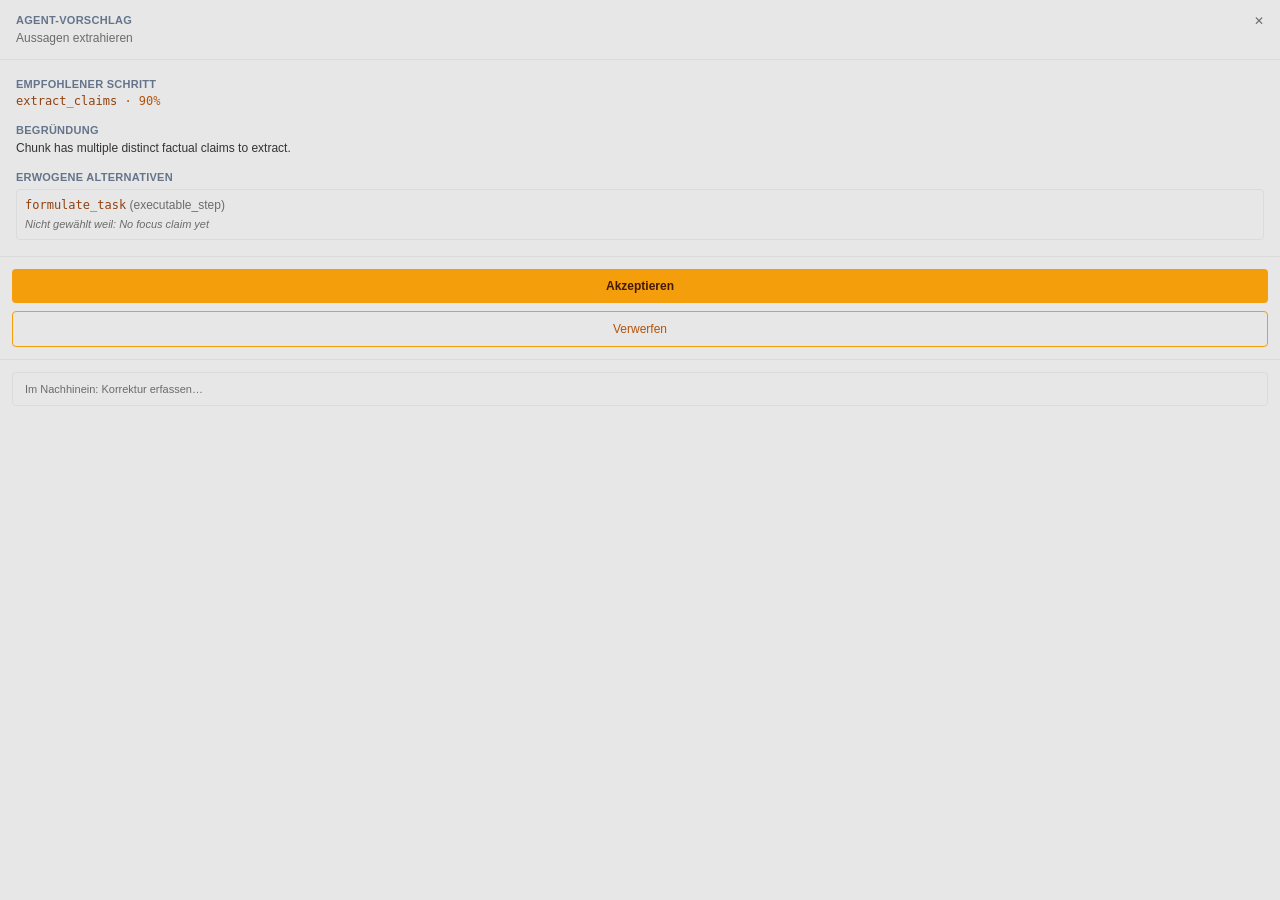
PlanProposalPanel — Verwerfen morph › combobox accepts free-text for unimplemented step names
The image size is (1280, 900).
Click the button "Verwerfen" at (640, 328), box [12,310,1268,346]
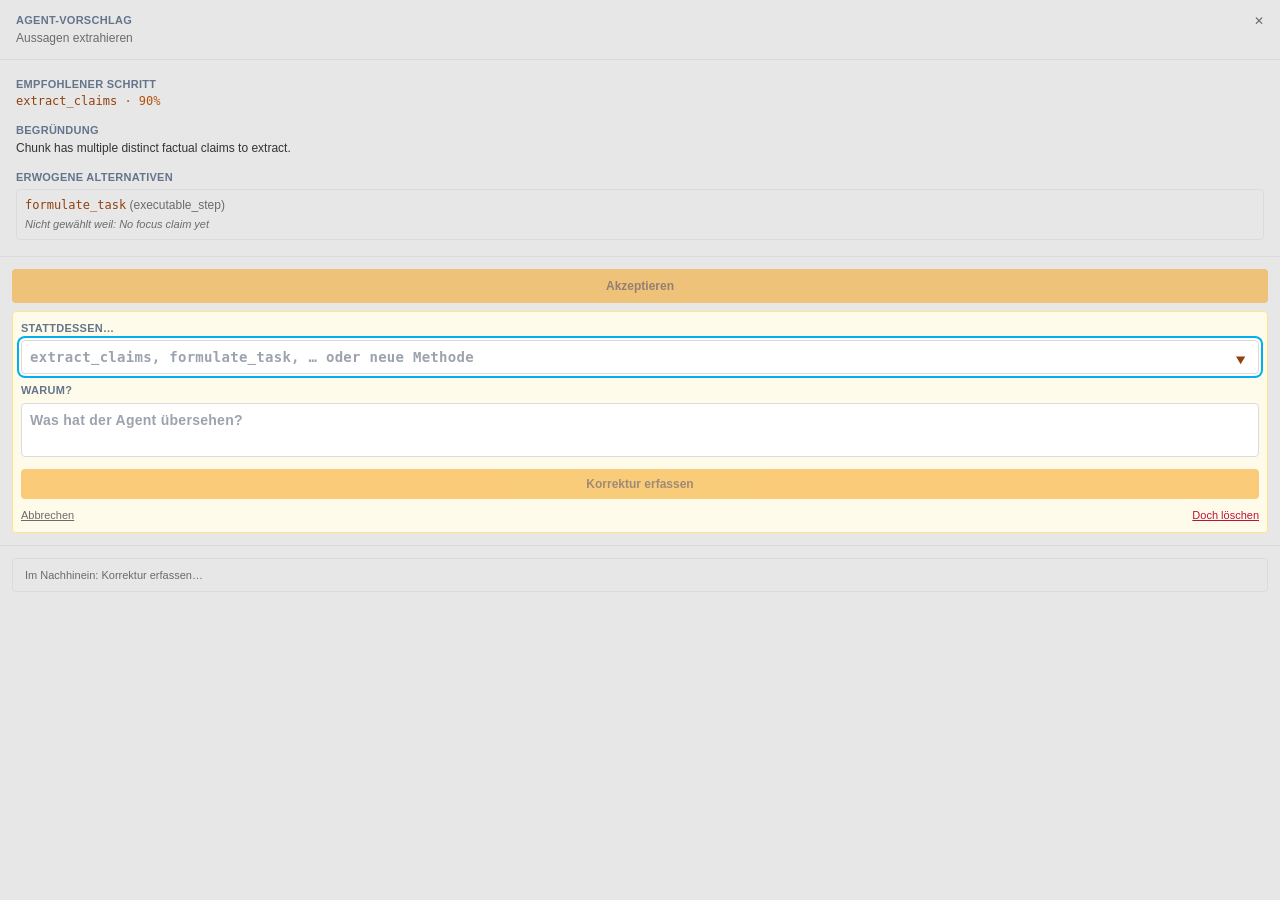
Type "summarize_section" into the field labelled "Stattdessen…" at (640, 357), box [21,340,1259,374]
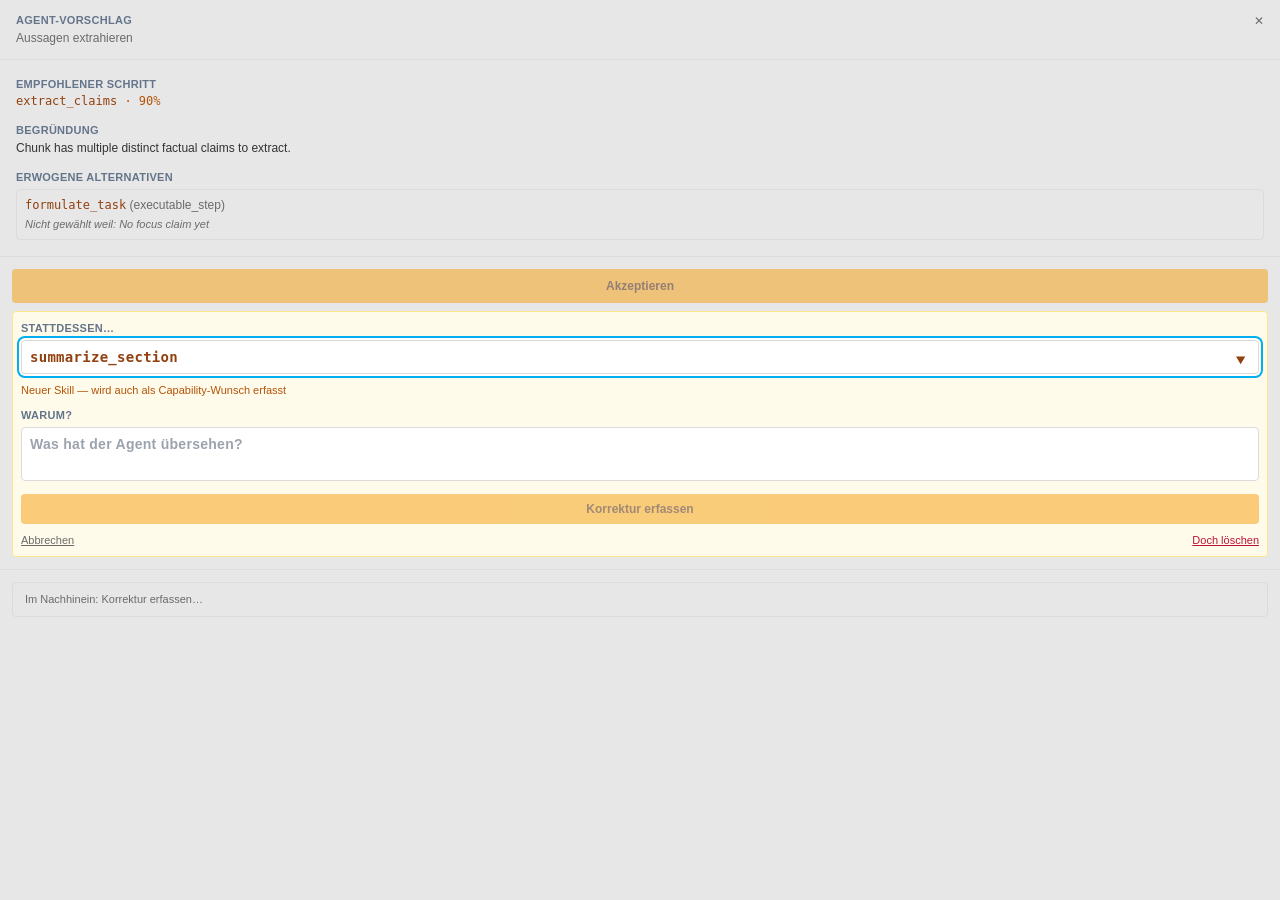
Expected: the text "Neuer Skill — wird auch als Capability-Wunsch erfasst" is shown, [21,384,286,396]
